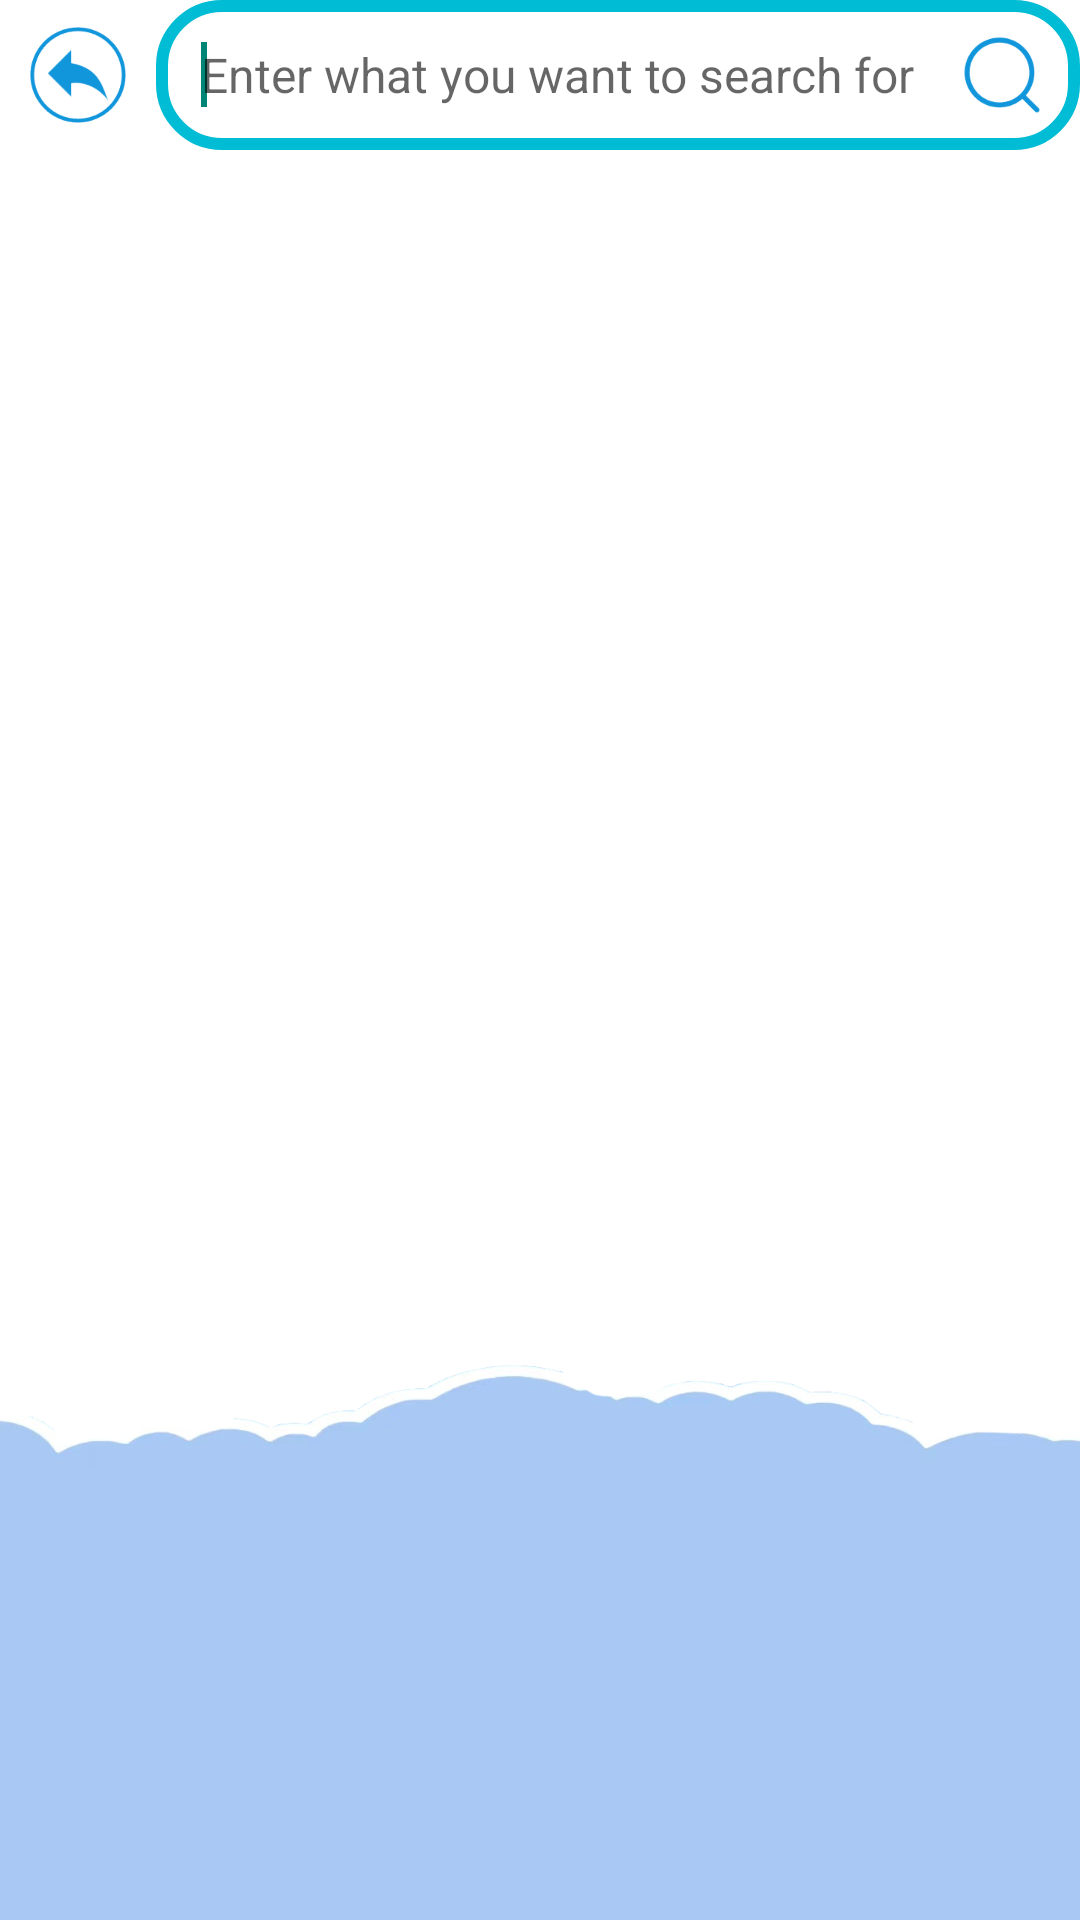

Screen size 1080*1920. Icon name, then its center in pixels as [x,y]:
it back: [78,75]
